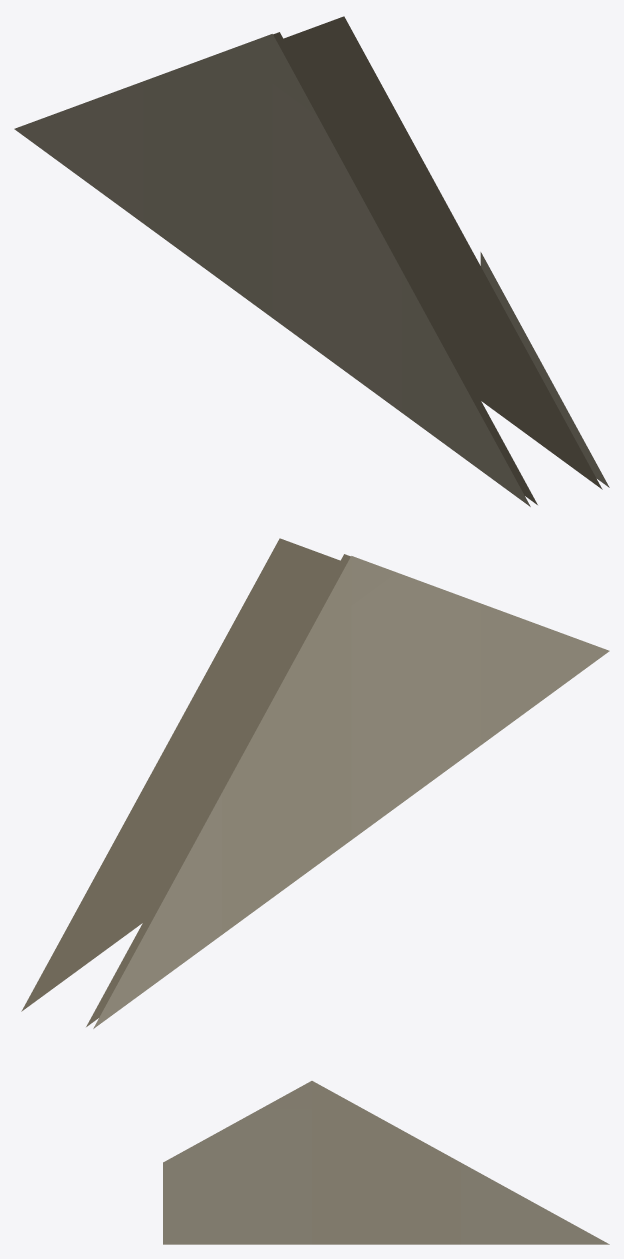
Rendered from wall-plaster-gable-peak.glb.
3 views of the same model, one above another, from view 1: azimuth 30°, elevation 25°; view 2: azimuth 150°, elevation 25°; view 3: azimuth 270°, elevation 25° (orthographic). The views are drawn at different scales.
Visible parts, largest first — view 1: wall-plaster-gable-peak; view 2: wall-plaster-gable-peak; view 3: wall-plaster-gable-peak.
Part boxes in pixels (x1,y1,x2,y2): wall-plaster-gable-peak: (14, 16, 609, 506); wall-plaster-gable-peak: (21, 538, 609, 1028); wall-plaster-gable-peak: (163, 1081, 609, 1244).
Size of the model in its own units: 0.088 by 0.3035 by 1.
